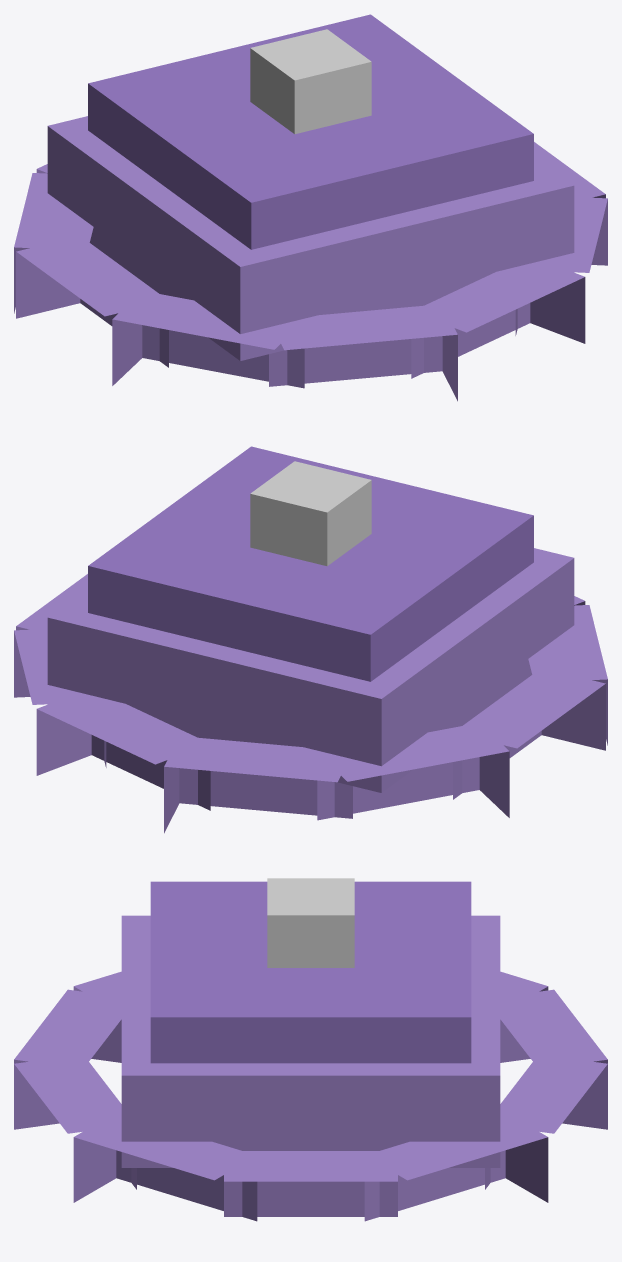
File: beanie.glb
3 views of the same model, one above another, from view 1: azimuth 30°, elevation 25°; view 2: azimuth 150°, elevation 25°; view 3: azimuth 270°, elevation 25° (orthographic).
Bounding box in the file's own units: 0.78 × 0.35 × 0.8158.
